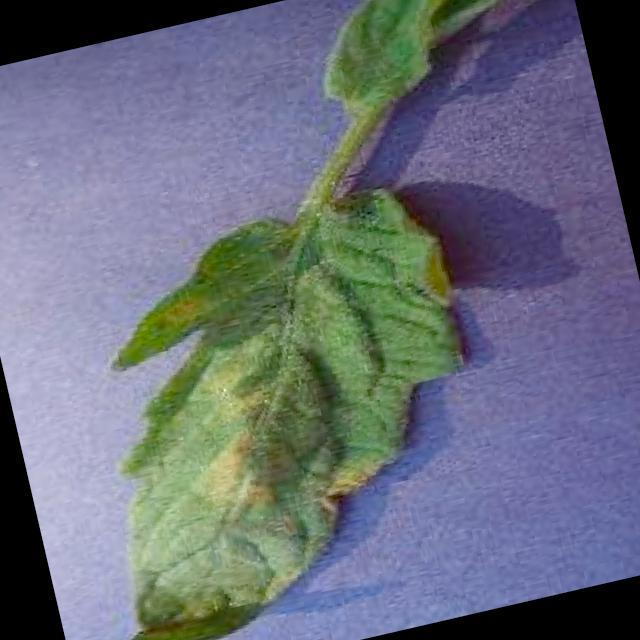Tomato mold leaf: (32, 172, 518, 640)
